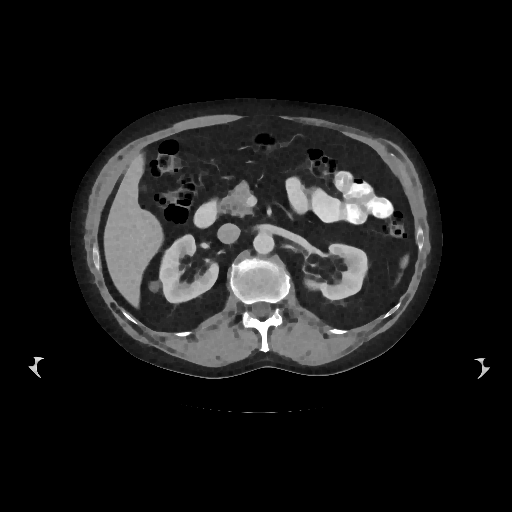Lesion: (143, 274, 165, 295)
